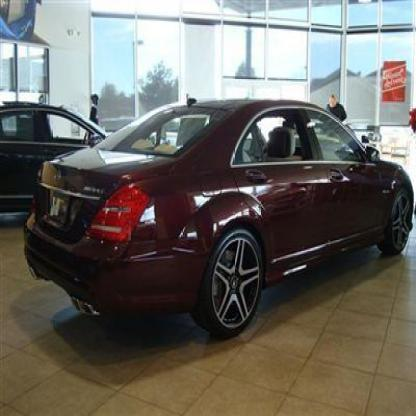Vehicle: (23, 97, 414, 337)
